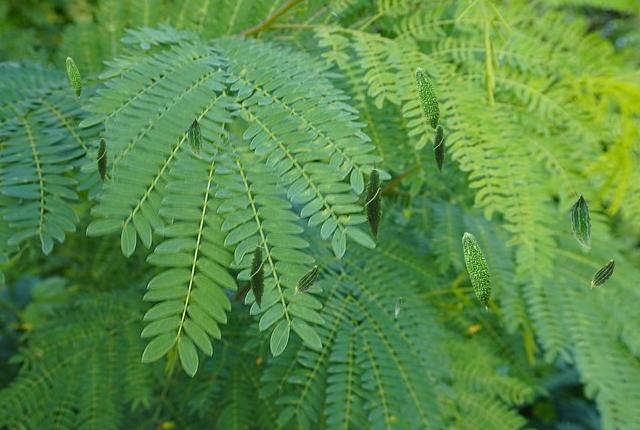ampalaya: (462, 232, 492, 310), (363, 159, 384, 242), (414, 66, 440, 131), (248, 237, 267, 310), (569, 193, 592, 249), (293, 265, 319, 295), (589, 259, 615, 289), (432, 119, 446, 174), (95, 132, 109, 184), (186, 117, 203, 159), (66, 56, 82, 98), (394, 296, 401, 317)
